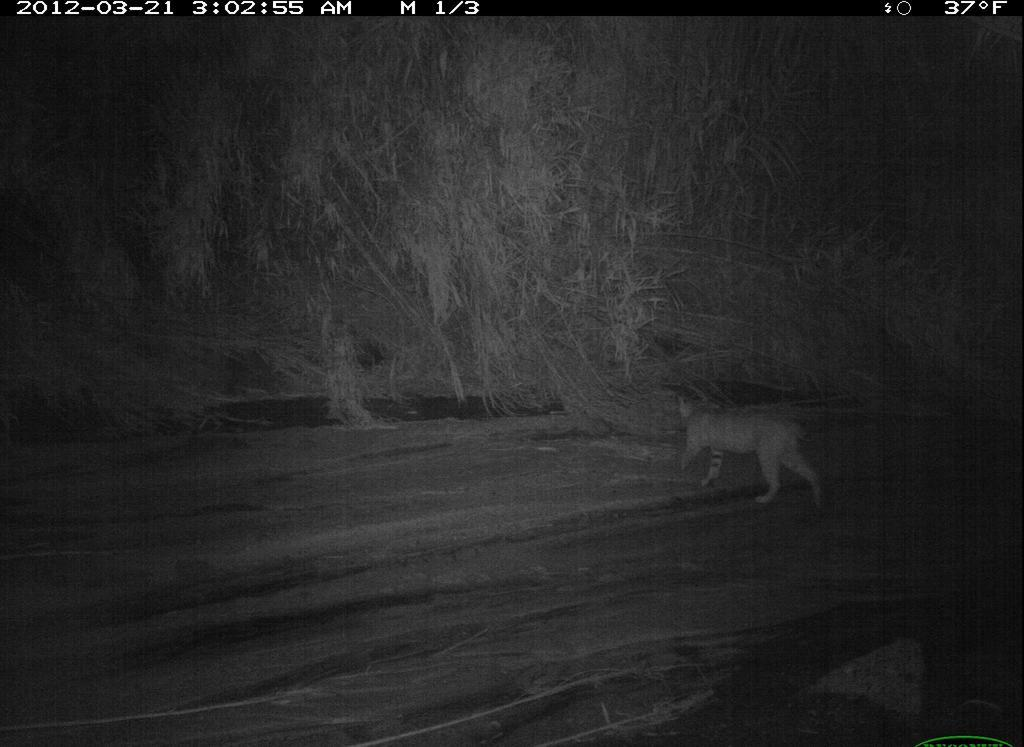bobcat: (655, 383, 861, 546)
